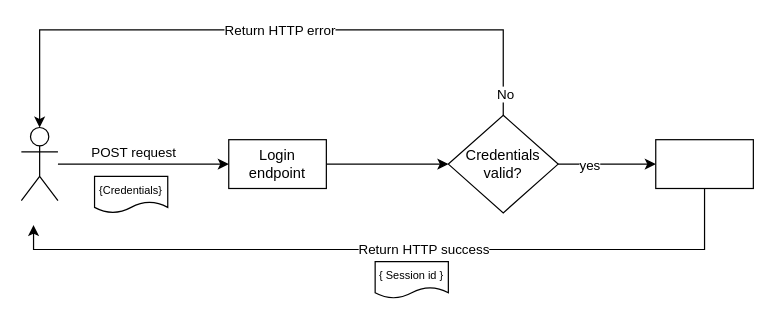
The diagram is 775 pixels wide and 320 high, and some of its shapes have lost their labels. Each missing label, with the box of its shape:
Client: (20, 126, 58, 201)
Create new session: (655, 138, 753, 188)
